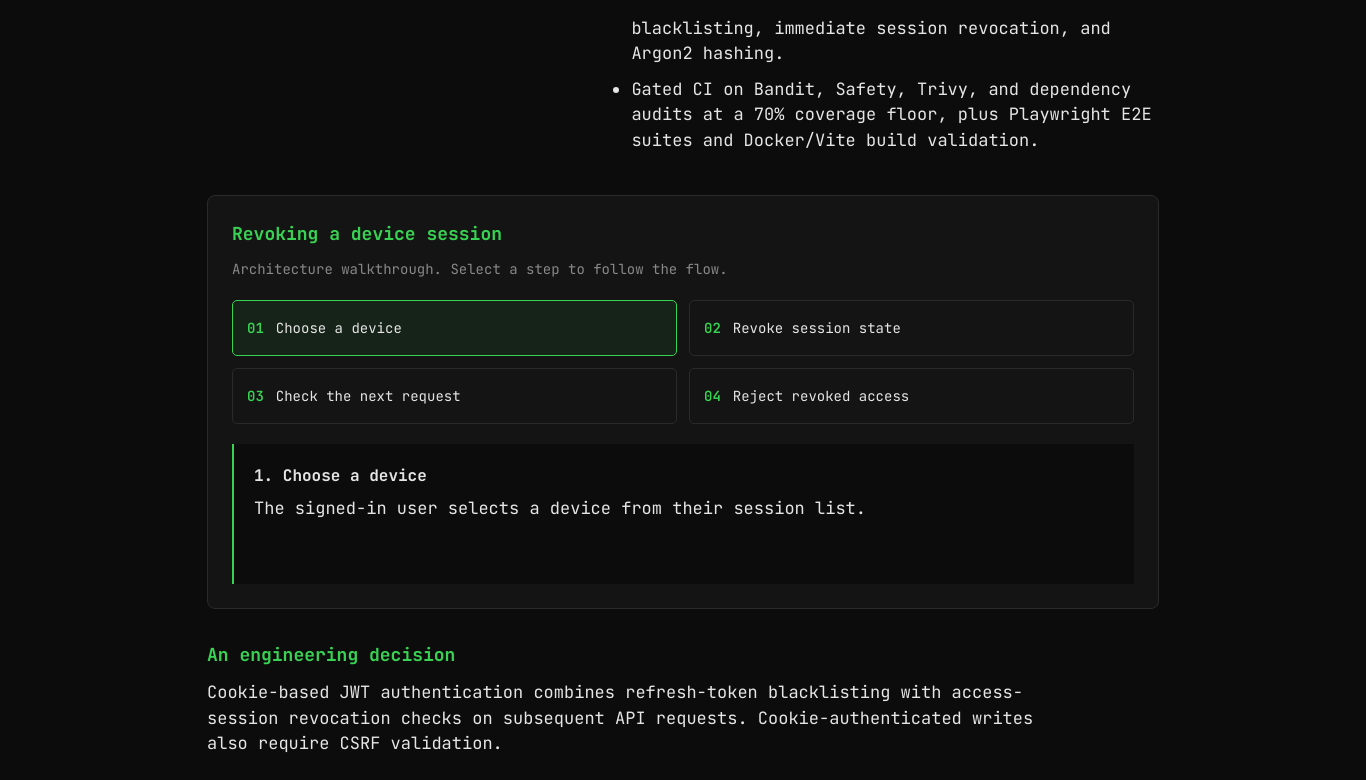
Test case: direct links open mobileid with an accessible architecture walkthrough
(page scrolled)
Click the button "04 Reject revoked access" at (912, 396), box top-left (689, 368), bottom-right (1134, 424)
(page scrolled)
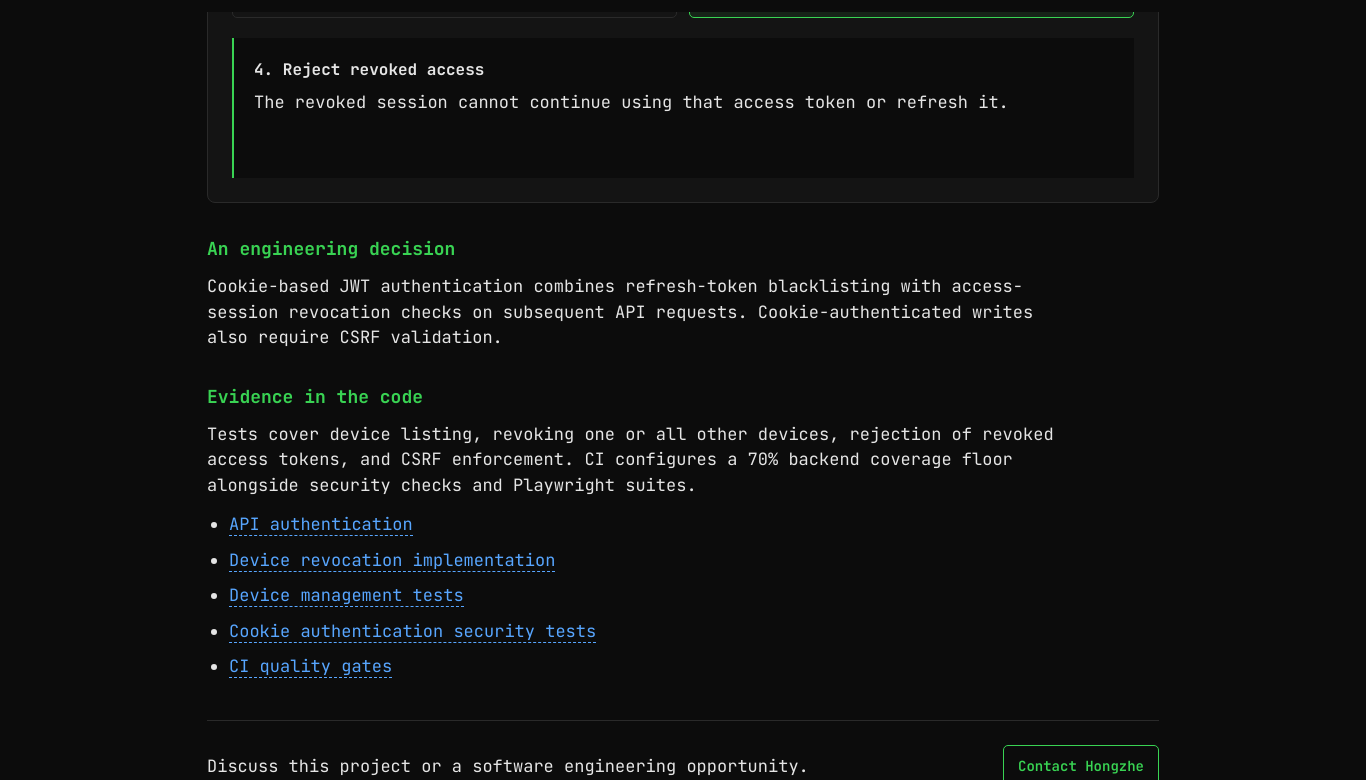
Expected: the text "The revoked session cannot continue" is shown, top-left (254, 91), bottom-right (1009, 113)
Expected: the heading "Evidence in the code" is shown, top-left (207, 385), bottom-right (423, 408)
